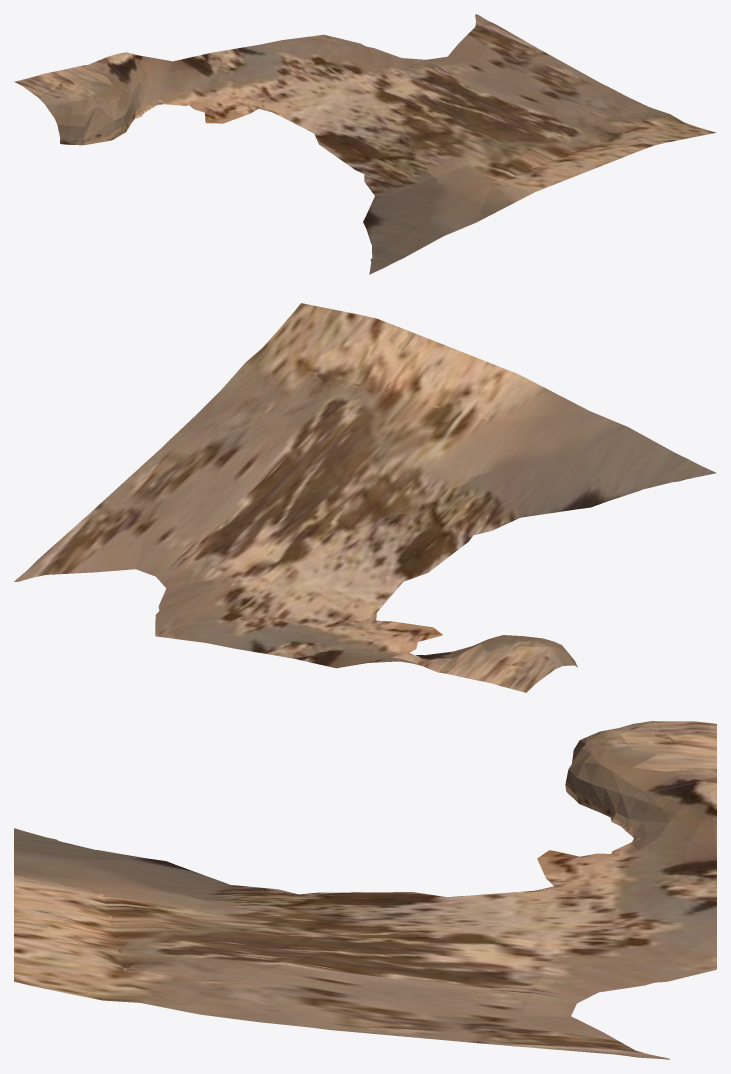
The picture shows the model from 3 angles, top to bottom: view 1: azimuth 30°, elevation 25°; view 2: azimuth 150°, elevation 25°; view 3: azimuth 270°, elevation 25°; orthographic projection. The views are drawn at different scales.
Bounding box in the file's own units: 1.04 × 0.1339 × 1.04.
Materials: 2 (2 with a texture image).
